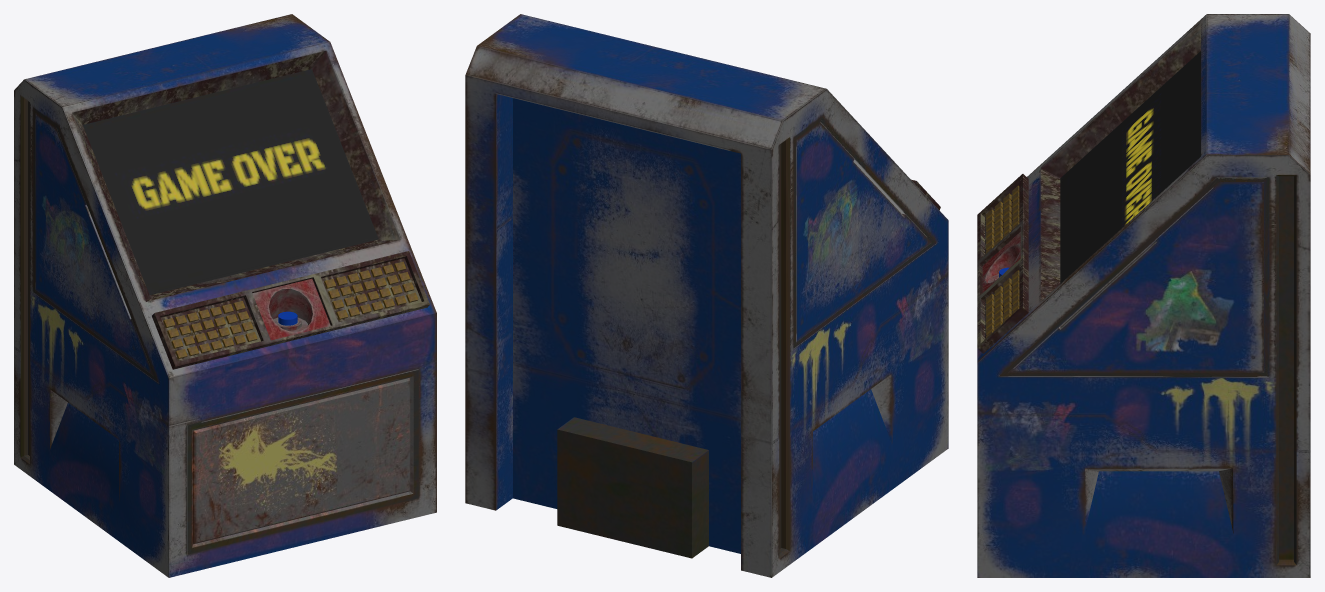
File: game machine.fbx
3 views of the same model, side by side, from view 1: azimuth 30°, elevation 25°; view 2: azimuth 150°, elevation 25°; view 3: azimuth 270°, elevation 25° (orthographic). The views are drawn at different scales.
Parts seen in each view (by area): view 1: Control Base; view 2: Control Base; view 3: Control Base.
Boxes of the visible parts, box(x1,y1,x2,y2) form: Control Base: box(14, 14, 436, 577); Control Base: box(465, 14, 948, 577); Control Base: box(977, 14, 1310, 577).
Size of the model in its own units: 120 by 168 by 120.
1 material, 1 textured.
